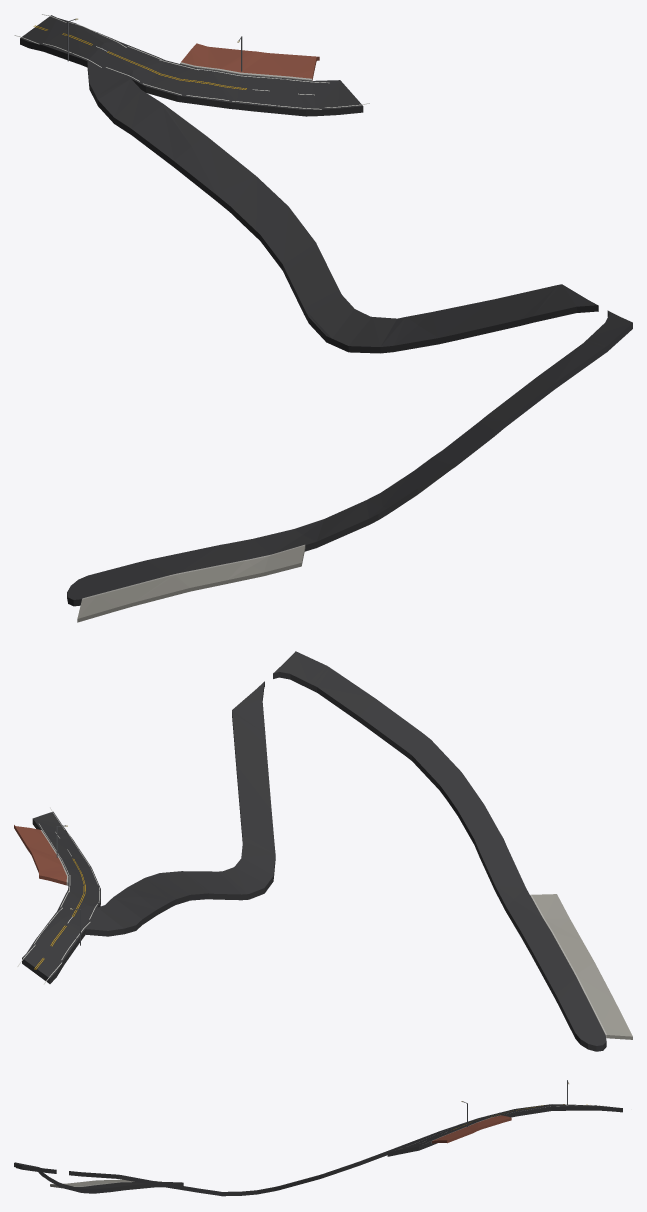
3 renders of one model, top to bottom at view 1: azimuth 30°, elevation 25°; view 2: azimuth 150°, elevation 25°; view 3: azimuth 270°, elevation 25°, orthographic. The views are drawn at different scales.
Size of the model in its own units: 92.94 by 59.17 by 156.
